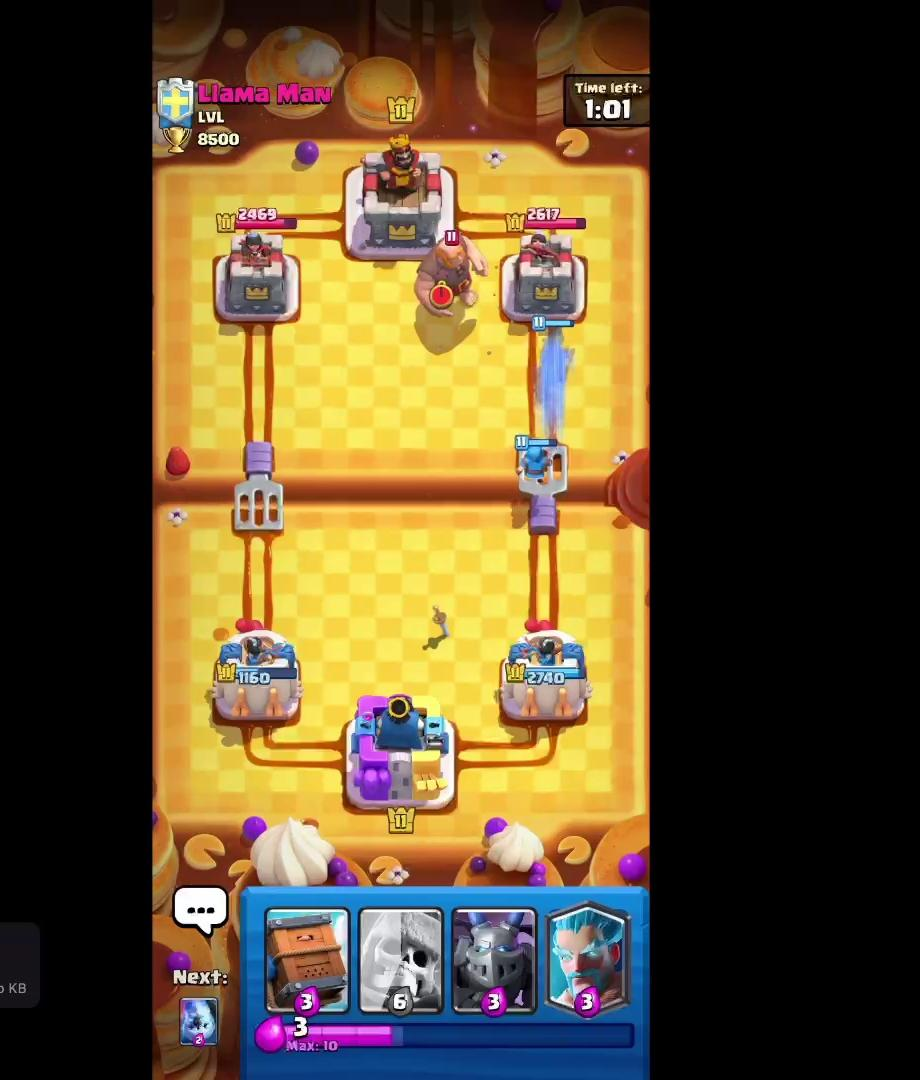Giant: (411, 223, 485, 324)
